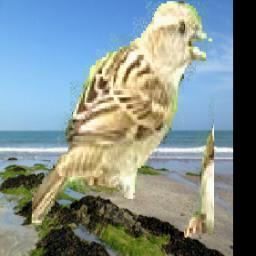Sparrow: (32, 2, 214, 239)
